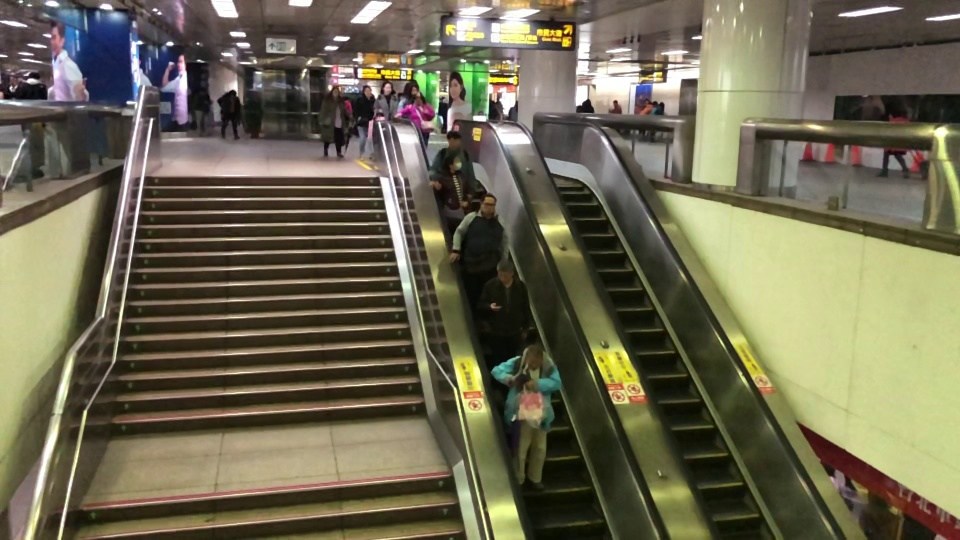person_head: (526, 344, 545, 371), (495, 257, 514, 283), (479, 193, 498, 215), (444, 151, 463, 171), (445, 129, 463, 148), (411, 91, 425, 106), (887, 105, 901, 120), (380, 81, 394, 95), (409, 82, 420, 97), (330, 85, 341, 98), (361, 85, 372, 98), (27, 71, 41, 81), (227, 89, 237, 99), (613, 99, 618, 106)
person_vbox: (492, 343, 561, 491), (449, 193, 510, 305), (476, 257, 530, 369), (428, 129, 477, 192), (874, 103, 912, 179), (435, 154, 468, 241), (318, 85, 350, 159), (397, 91, 435, 150), (353, 85, 376, 161), (216, 90, 242, 139), (374, 80, 400, 119), (16, 71, 48, 101), (396, 81, 426, 113), (608, 98, 623, 114)
